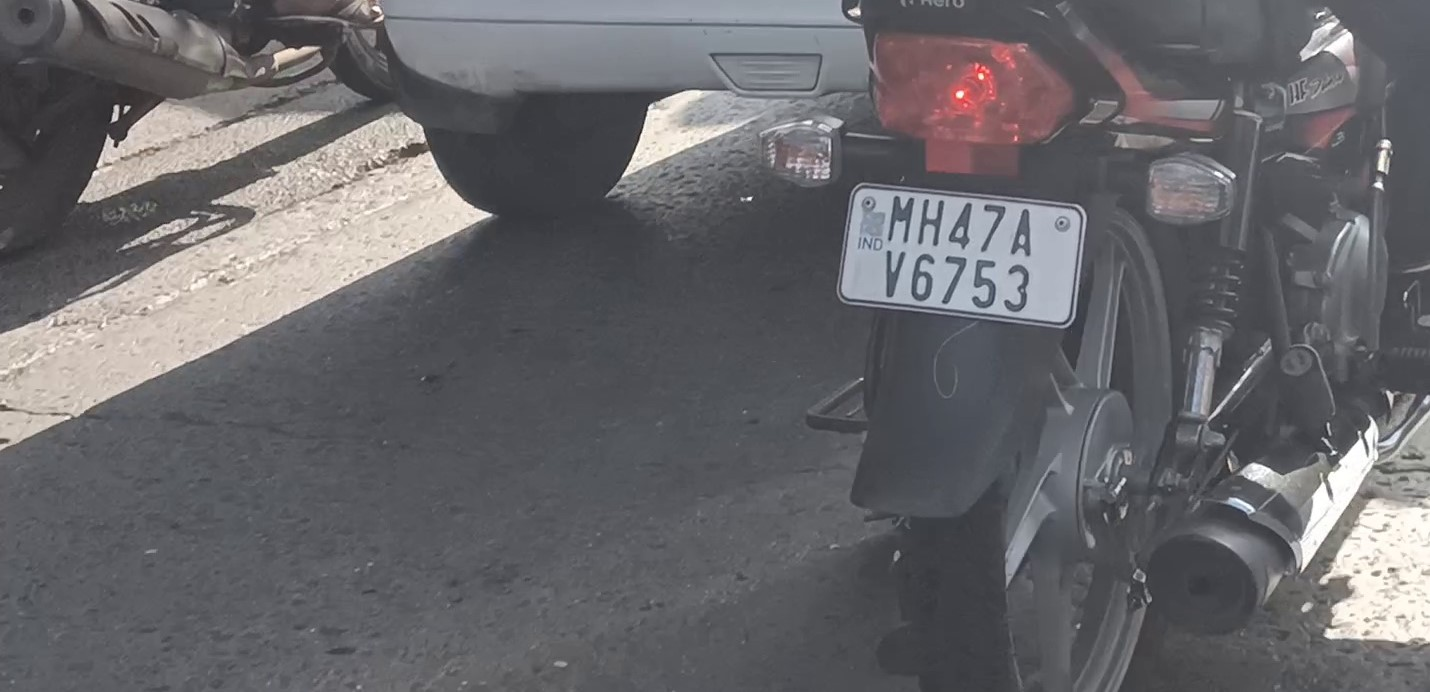MH47AV6753: (841, 183, 1083, 324)
